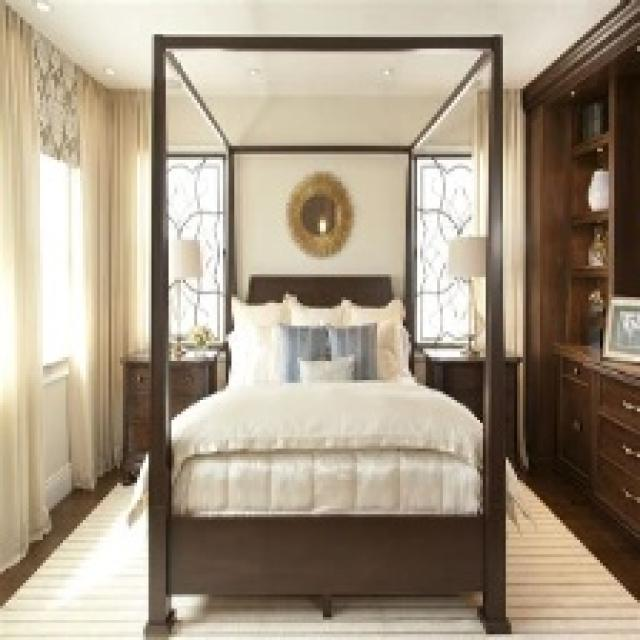Bed: (146, 272, 508, 632)
